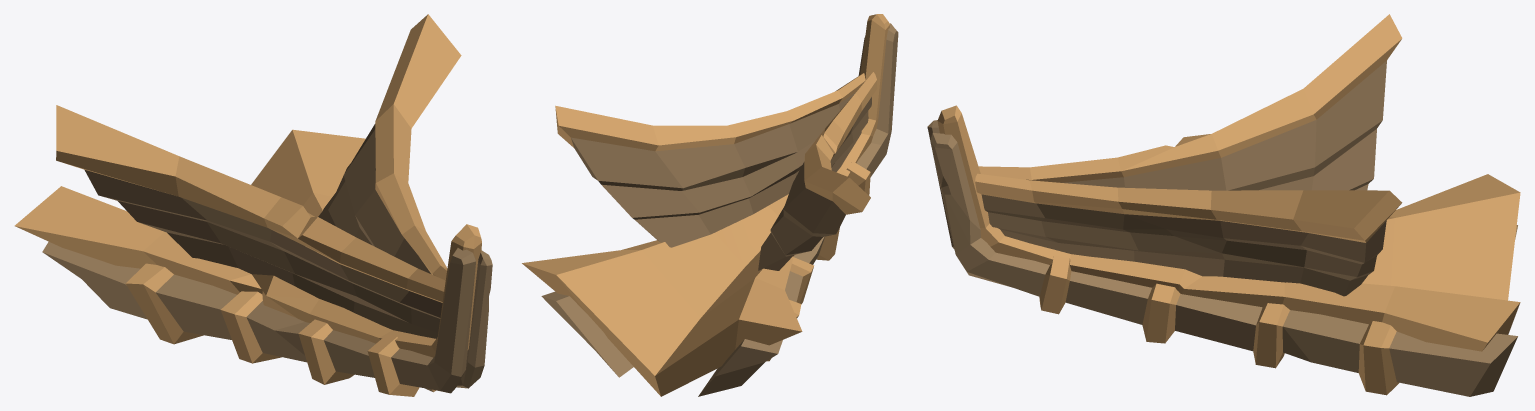
File: SM_Veh_Ship_M_Ram_04.fbx
3 views of the same model, side by side, from view 1: azimuth 30°, elevation 25°; view 2: azimuth 150°, elevation 25°; view 3: azimuth 270°, elevation 25° (orthographic). The views are drawn at different scales.
Visible parts, largest first — view 1: SM_Veh_Ship_M_Ram_04; view 2: SM_Veh_Ship_M_Ram_04; view 3: SM_Veh_Ship_M_Ram_04.
Part boxes in pixels (x1,y1,x2,y2): SM_Veh_Ship_M_Ram_04: (14, 14, 492, 396); SM_Veh_Ship_M_Ram_04: (522, 14, 898, 396); SM_Veh_Ship_M_Ram_04: (927, 14, 1520, 396).
Bounding box in the file's own units: 734 × 503 × 968.
